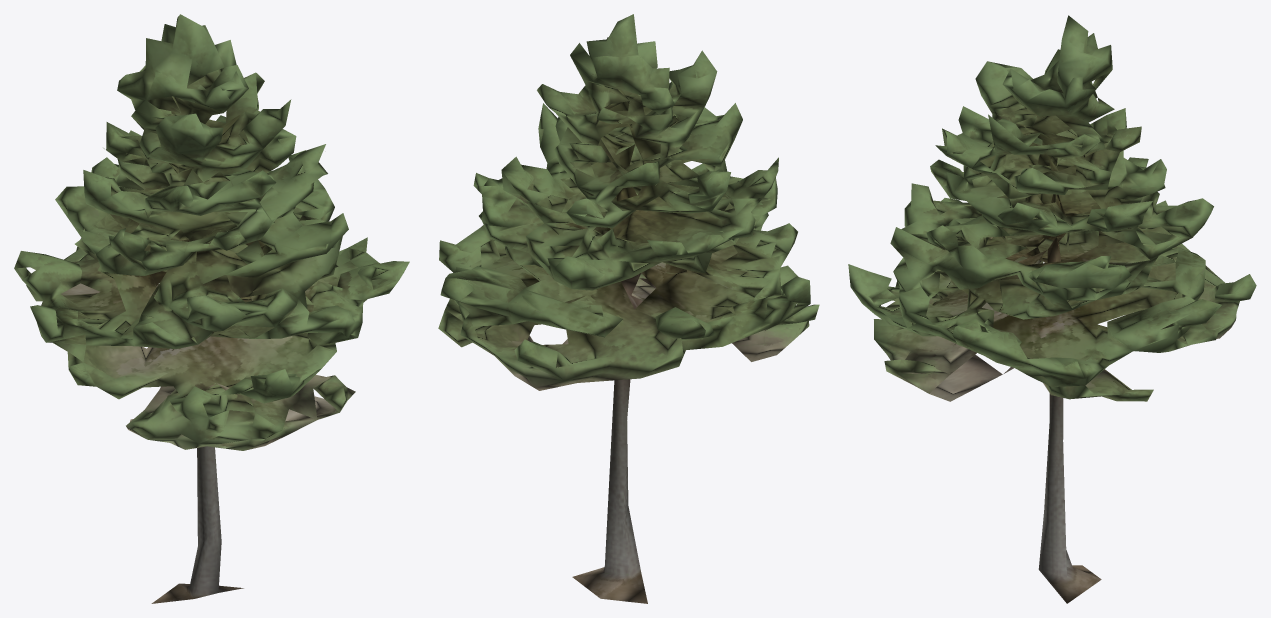
The model's file is cypress.glb.
The picture shows the model from 3 angles, left to right: view 1: azimuth 30°, elevation 25°; view 2: azimuth 150°, elevation 25°; view 3: azimuth 270°, elevation 25°; orthographic projection. The views are drawn at different scales.
Parts seen in each view (by area): view 1: geometry_0; view 2: geometry_0; view 3: geometry_0.
Part boxes in pixels (bbox=[...]): geometry_0: bbox=[14, 14, 409, 603]; geometry_0: bbox=[438, 14, 819, 603]; geometry_0: bbox=[848, 15, 1256, 603].
Bounding box in the file's own units: 0.6189 × 0.9762 × 0.645.
Materials: 1 (1 with a texture image).
